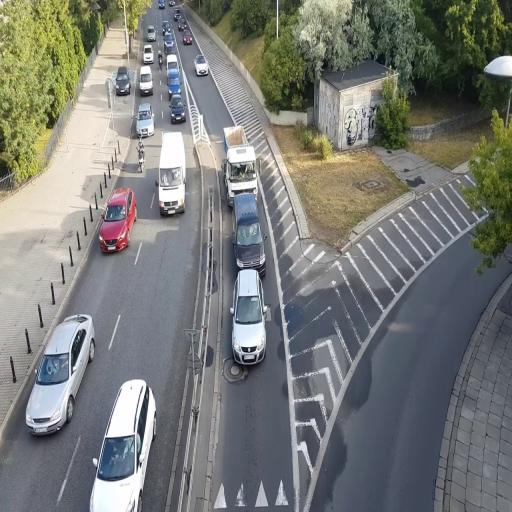vehicle: (89, 377, 156, 512), (26, 313, 96, 435), (225, 131, 266, 275), (231, 268, 268, 366), (233, 190, 267, 274), (224, 125, 258, 204), (99, 186, 137, 254), (158, 132, 186, 216), (135, 103, 154, 137), (170, 94, 186, 124), (114, 67, 131, 95), (139, 65, 153, 95), (194, 57, 209, 78)
